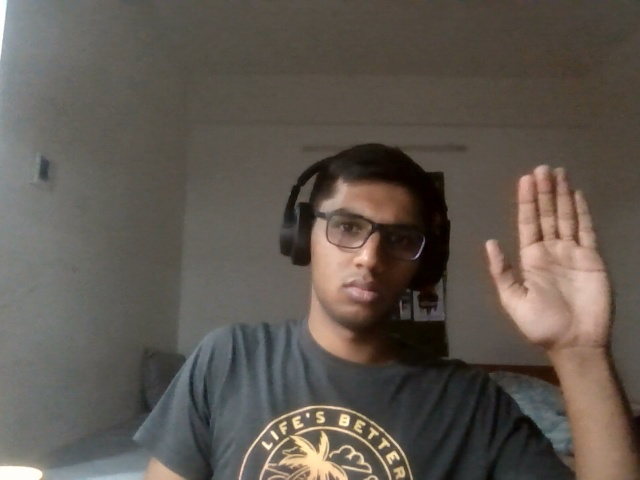hello: (467, 168, 630, 363)
